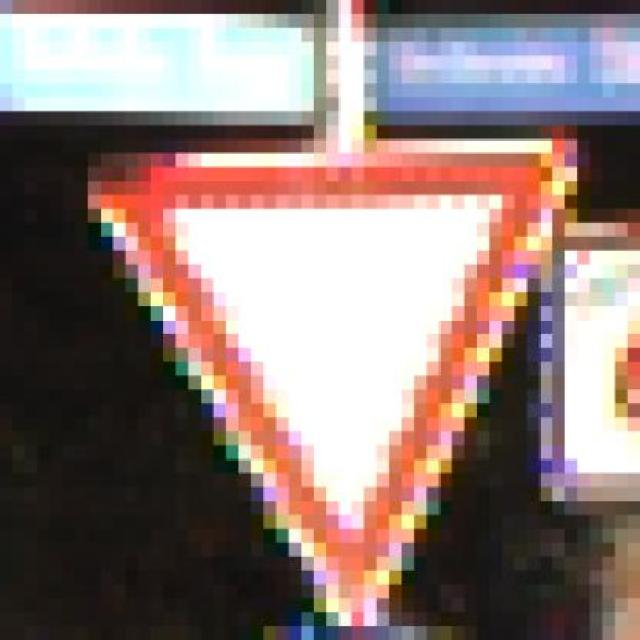Give Way: (75, 139, 602, 626)
